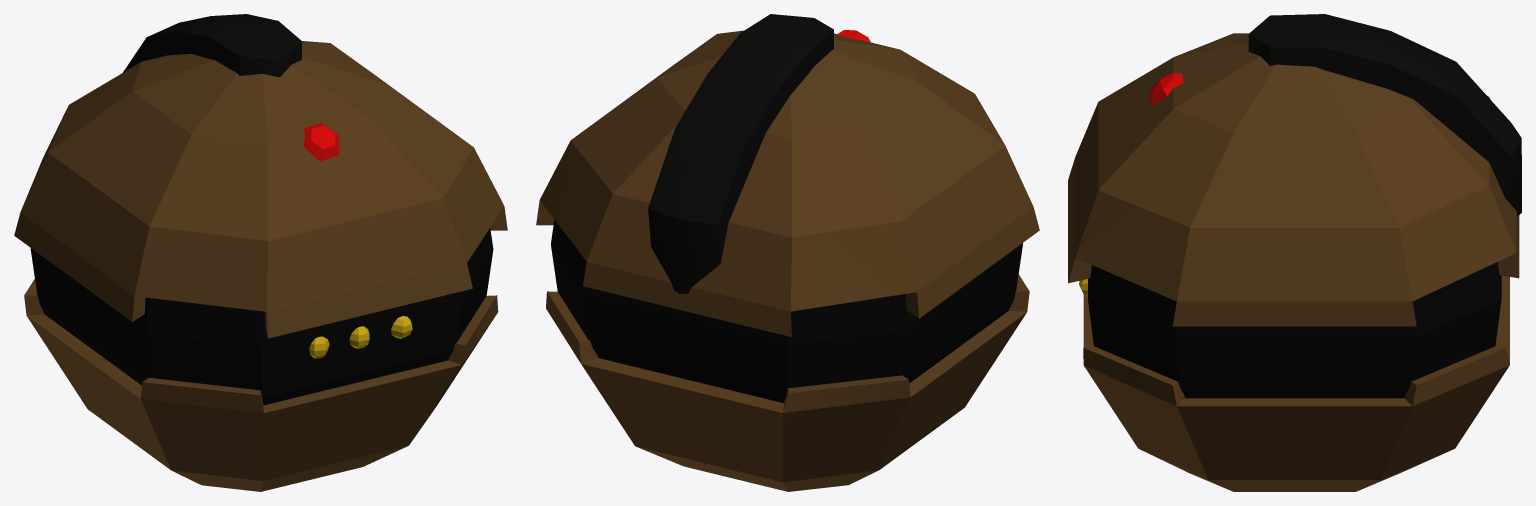
The model's file is Grenade.fbx.
3 renders of one model, left to right at view 1: azimuth 30°, elevation 25°; view 2: azimuth 150°, elevation 25°; view 3: azimuth 270°, elevation 25°, orthographic. The views are drawn at different scales.
Parts seen in each view (by area): view 1: Grenade; view 2: Grenade; view 3: Grenade.
Boxes of the visible parts, x1,y1,x2,y2 form: Grenade: [14, 14, 507, 491]; Grenade: [536, 14, 1039, 491]; Grenade: [1068, 14, 1521, 491].
Size of the model in its own units: 0.282 by 0.3142 by 0.2861.
